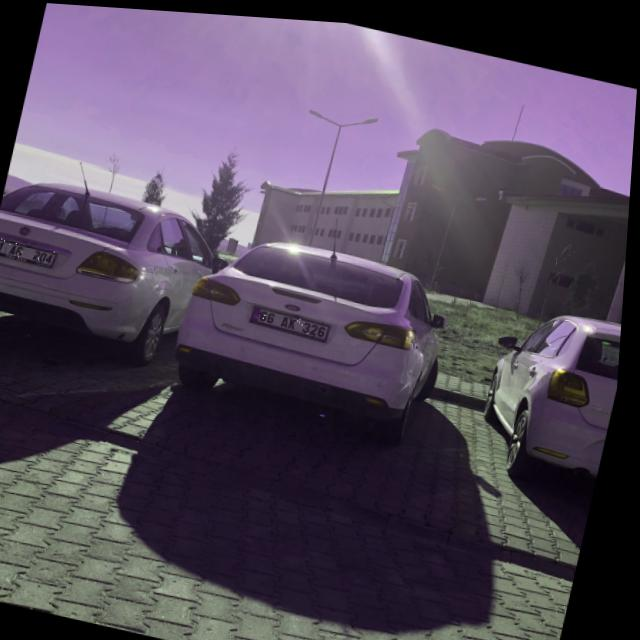license_plate: (254, 304, 335, 335), (0, 237, 62, 266)
